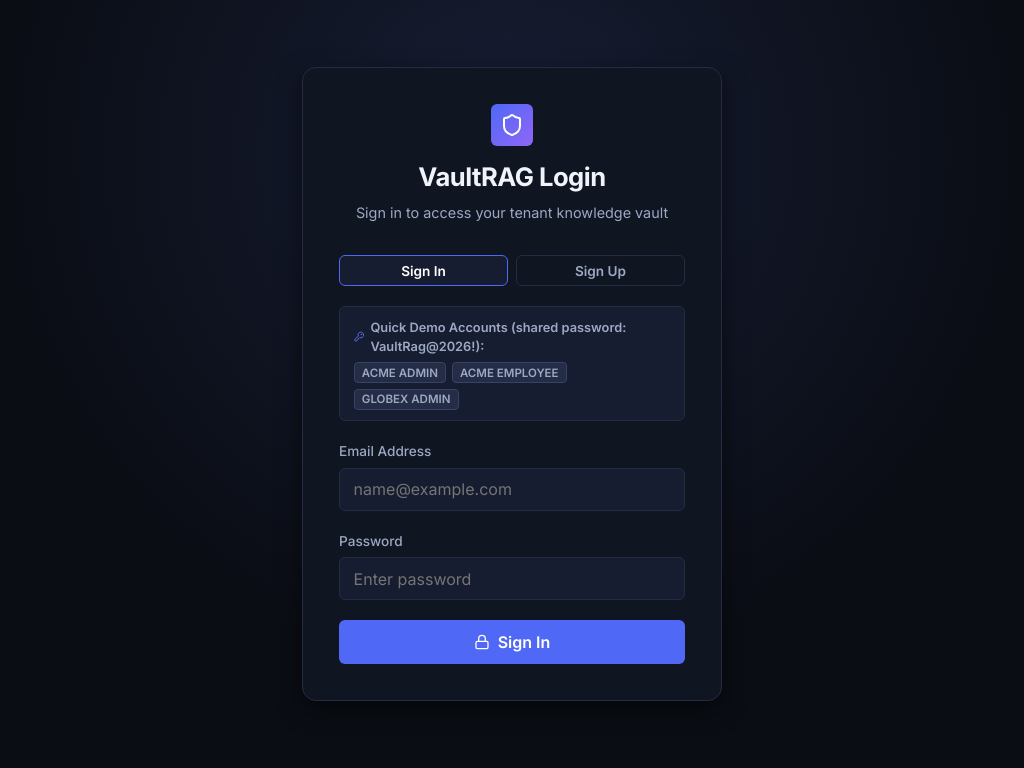
Test: LoginPage Form Validation › shows validation error when email is empty
Click the button with test id "btn-login-submit" at [512, 642], box x1=339 y1=620 x2=685 y2=664
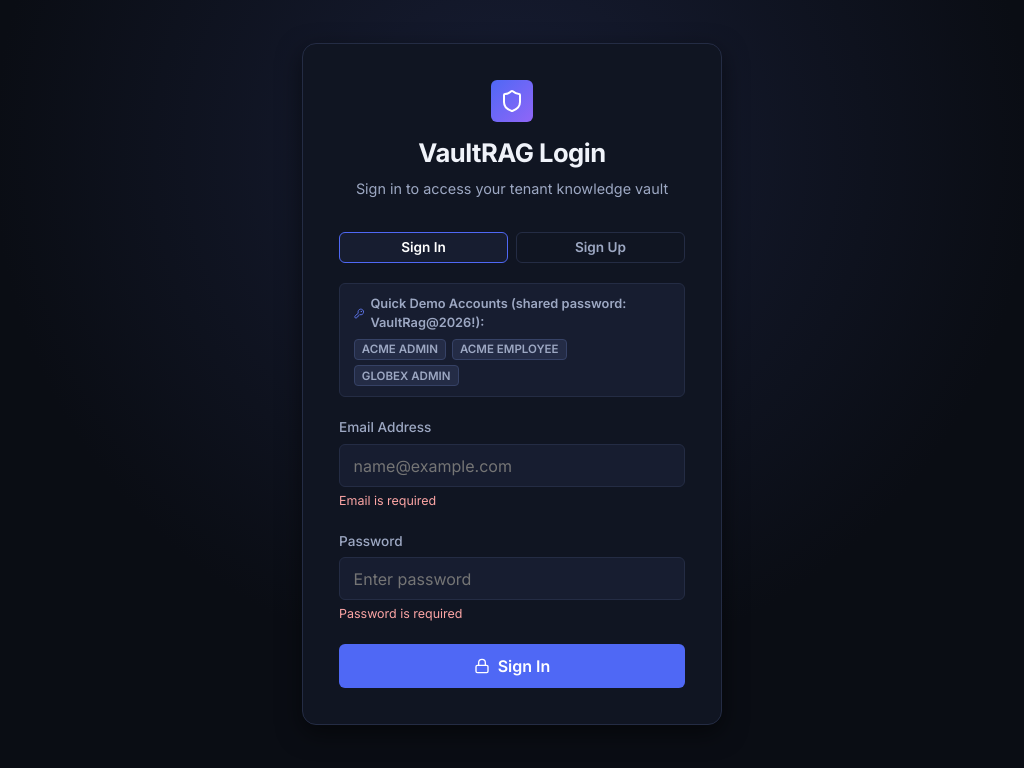
Check: the text with test id "error-email" reads "Email is required", box x1=339 y1=493 x2=436 y2=508
